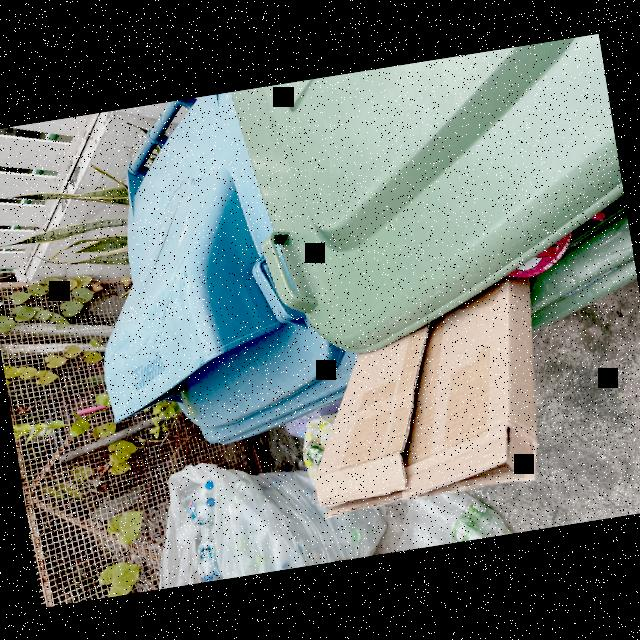can: (302, 438, 330, 470)
cardboard_box: (288, 274, 561, 520)
plastic_bag: (138, 438, 386, 588), (391, 476, 512, 550), (296, 412, 351, 490)
plastic_bottle: (169, 496, 221, 546), (174, 479, 218, 522), (192, 522, 222, 580), (178, 482, 205, 506)
plastic_bottle_cap: (204, 496, 216, 508), (204, 480, 213, 490), (203, 573, 213, 580)
